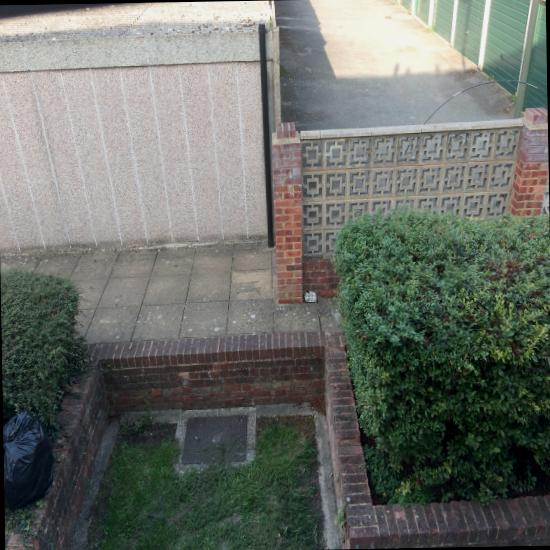Egg carton: (304, 291, 316, 301)
Garbage bag: (2, 407, 54, 511)
